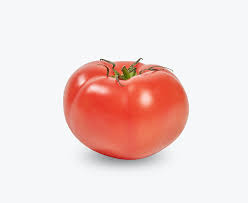tomate: (64, 50, 189, 159)
